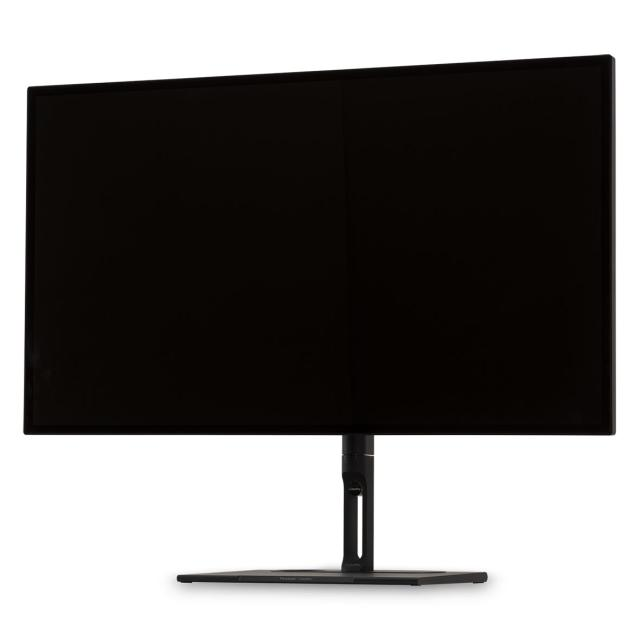monitor: (23, 58, 616, 586)
